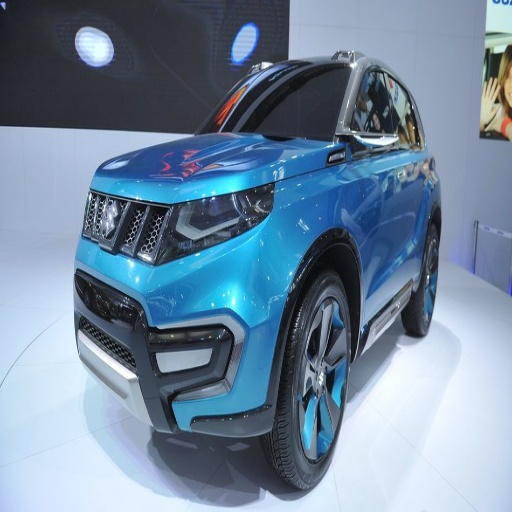front_bumper: (77, 213, 302, 440), (88, 193, 176, 242)
front_glass: (205, 69, 345, 140)
front_left_door: (339, 67, 399, 307)
